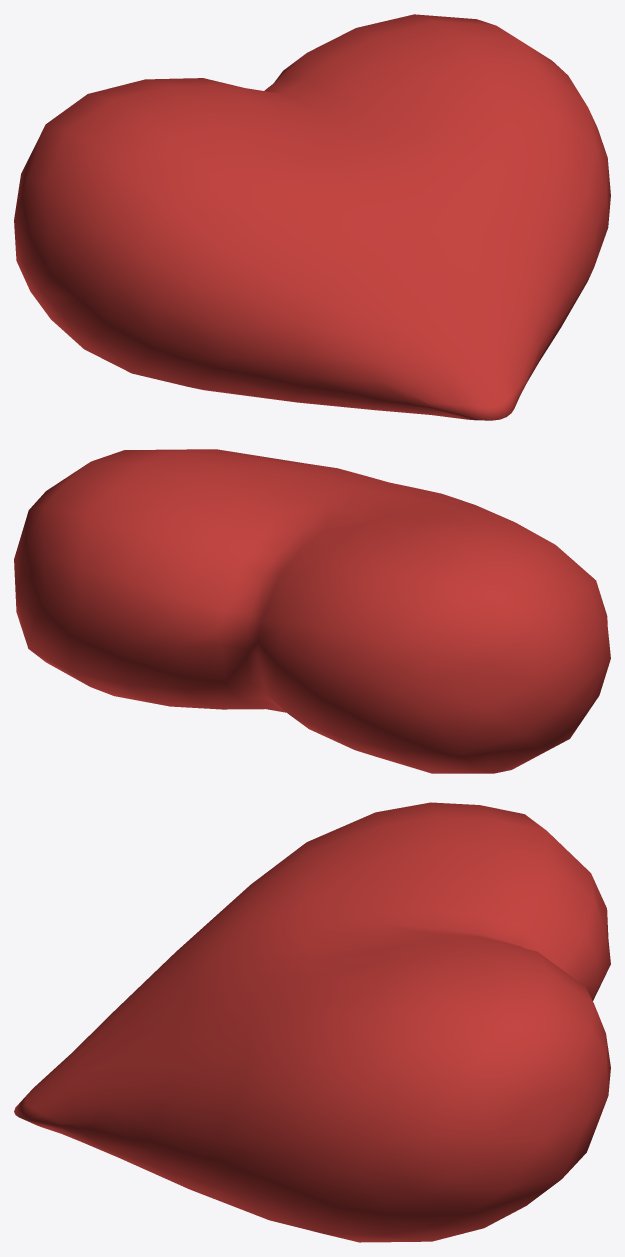
The model's file is FI_045_health_heart.glb.
3 views of the same model, one above another, from view 1: azimuth 30°, elevation 25°; view 2: azimuth 150°, elevation 25°; view 3: azimuth 270°, elevation 25° (orthographic). The views are drawn at different scales.
Visible parts, largest first — view 1: heart; view 2: heart; view 3: heart.
Part boxes in pixels (x1,y1,x2,y2): heart: [14, 14, 610, 420]; heart: [14, 449, 610, 773]; heart: [14, 802, 610, 1242].
Size of the model in its own units: 0.5802 by 0.2505 by 0.5152.
